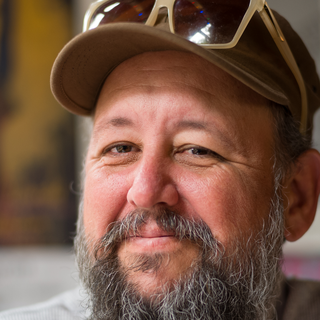eye: (173, 141, 226, 164), (98, 139, 142, 163)
